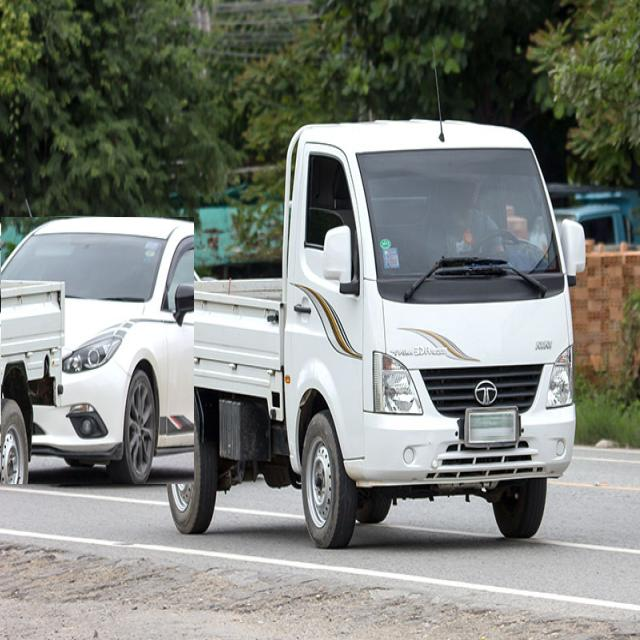car: (0, 217, 194, 484)
truck: (130, 120, 585, 547)
